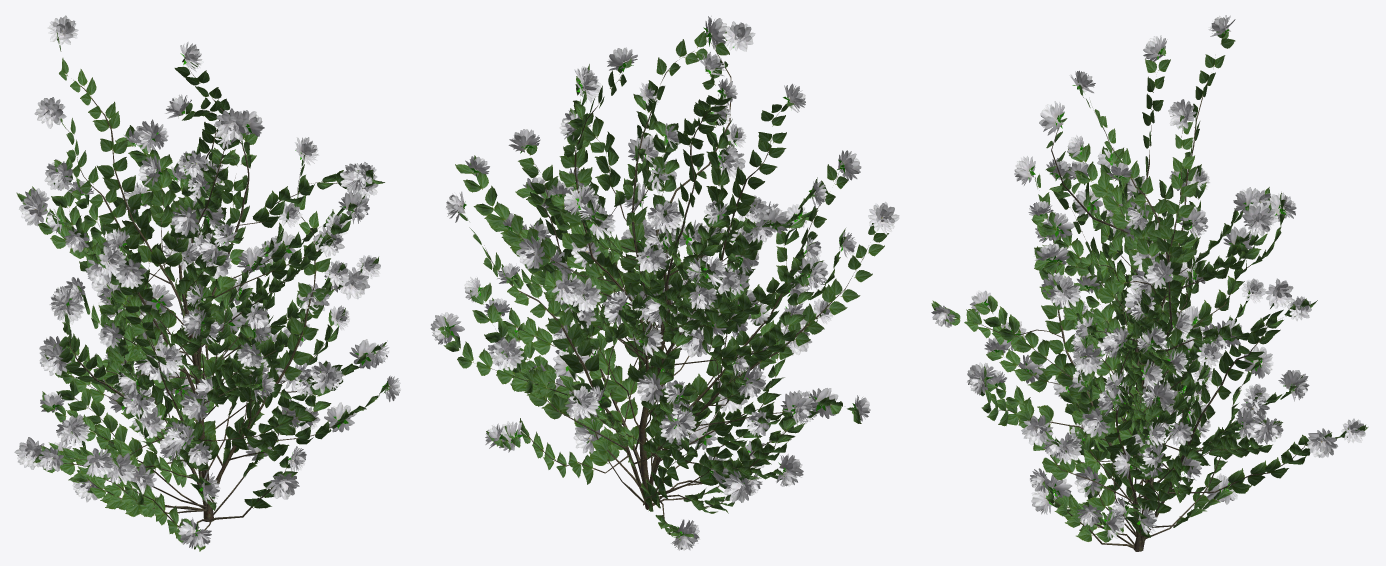
The model's file is shrub_flowers.glb.
The picture shows the model from 3 angles, left to right: view 1: azimuth 30°, elevation 25°; view 2: azimuth 150°, elevation 25°; view 3: azimuth 270°, elevation 25°; orthographic projection. The views are drawn at different scales.
Visible parts, largest first — view 1: Object_10, Object_7, Object_8, Object_5; view 2: Object_10, Object_7, Object_8, Object_5; view 3: Object_10, Object_7, Object_8, Object_5.
Part boxes in pixels (bbox=[...]): Object_10: bbox=[16, 32, 390, 551]; Object_7: bbox=[14, 15, 380, 503]; Object_8: bbox=[40, 132, 400, 548]; Object_5: bbox=[56, 63, 357, 530]; Object_10: bbox=[438, 31, 888, 540]; Object_7: bbox=[445, 16, 899, 550]; Object_8: bbox=[430, 82, 833, 483]; Object_5: bbox=[484, 36, 867, 532]; Object_10: bbox=[931, 31, 1368, 542]; Object_7: bbox=[1014, 15, 1309, 521]; Object_8: bbox=[931, 161, 1366, 539]; Object_5: bbox=[969, 62, 1304, 551].
Bounding box in the file's own units: 1.25 × 1.6 × 1.31.
Materials: 3 (3 with a texture image).
